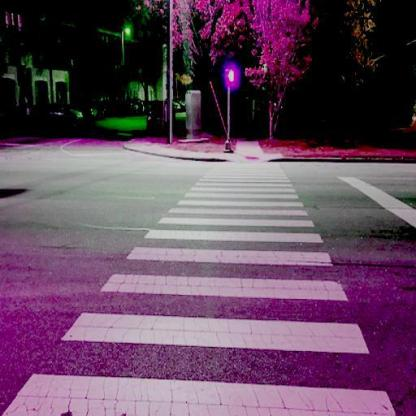crosswalk: (89, 242, 357, 305), (163, 197, 316, 217)
